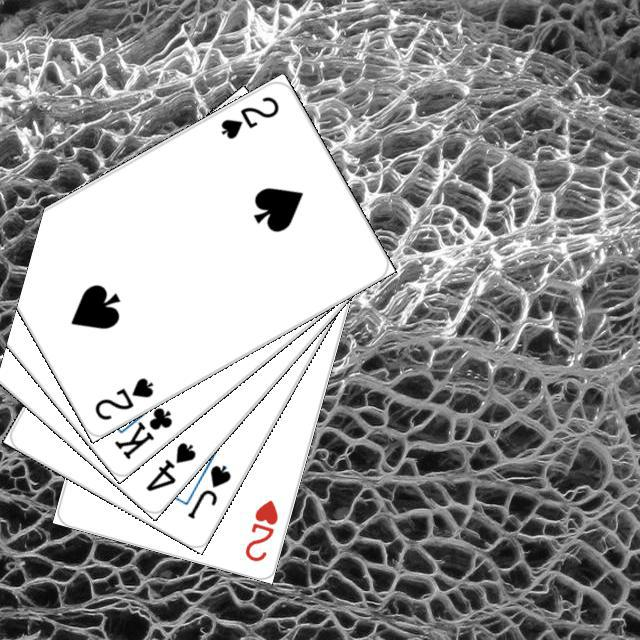2h: (240, 495, 280, 564)
2s: (89, 372, 156, 422), (215, 91, 281, 141)
4s: (140, 436, 198, 493)
Js: (182, 459, 233, 521)
Kc: (109, 390, 174, 462)
